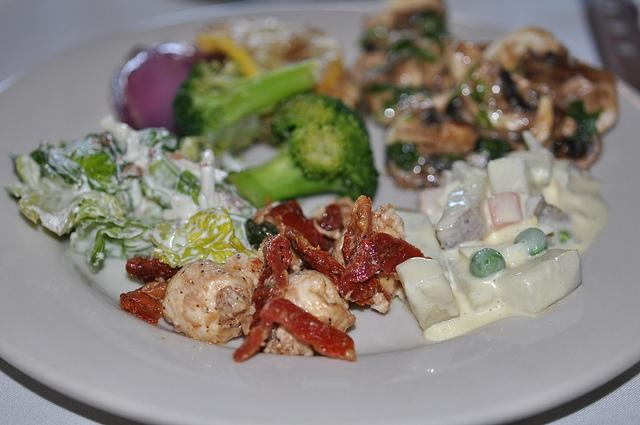broccoli: (224, 91, 380, 210), (171, 56, 317, 138)
lettuce: (7, 156, 128, 237), (32, 128, 131, 207), (150, 206, 260, 268), (70, 215, 158, 274), (150, 160, 200, 206), (139, 177, 171, 208)
mushroom: (482, 26, 568, 76), (576, 61, 618, 134), (416, 114, 478, 162), (365, 3, 445, 34), (386, 107, 444, 146), (546, 72, 596, 110), (443, 38, 481, 84), (350, 51, 390, 90), (366, 88, 394, 114), (412, 37, 444, 59), (560, 116, 578, 141), (419, 59, 433, 79), (170, 150, 184, 160)
